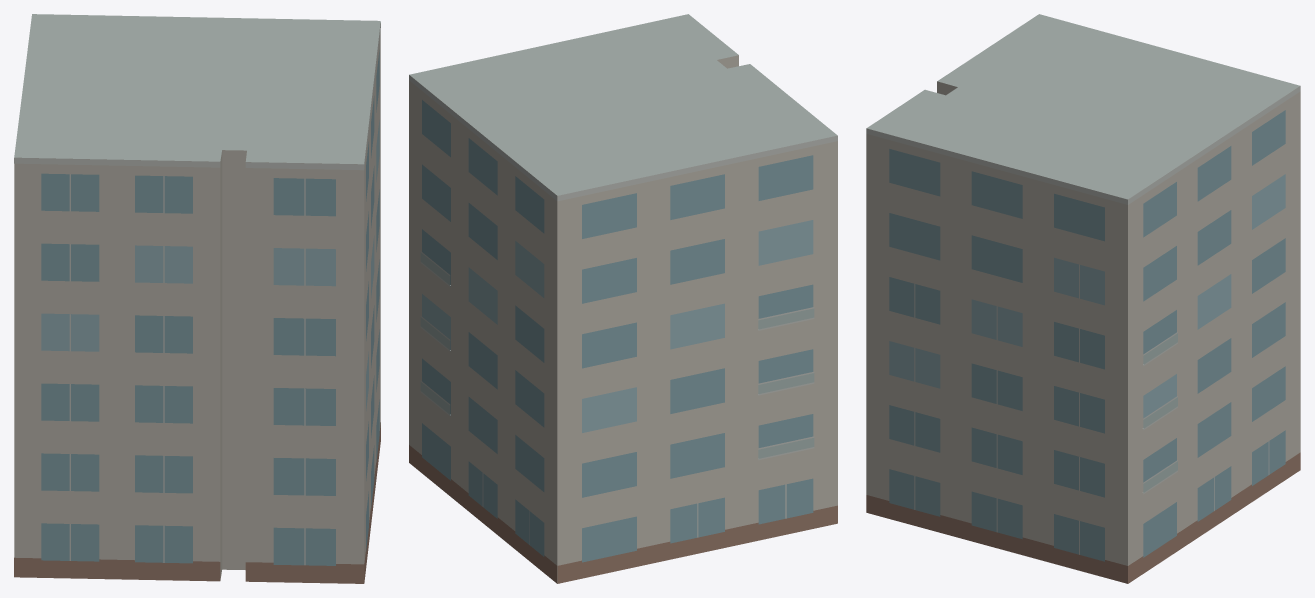
Rendered from survey-upis-32885978.glb.
The picture shows the model from 3 angles, left to right: view 1: azimuth 30°, elevation 25°; view 2: azimuth 150°, elevation 25°; view 3: azimuth 270°, elevation 25°; orthographic projection. The views are drawn at different scales.
Parts seen in each view (by area): view 1: survey-upis-32885978.tmp; view 2: survey-upis-32885978.tmp; view 3: survey-upis-32885978.tmp.
Boxes of the visible parts, x1,y1,x2,y2 form: survey-upis-32885978.tmp: [14, 14, 380, 583]; survey-upis-32885978.tmp: [409, 14, 837, 583]; survey-upis-32885978.tmp: [866, 14, 1300, 583].
Size of the model in its own units: 17.71 by 17.1 by 17.51.
